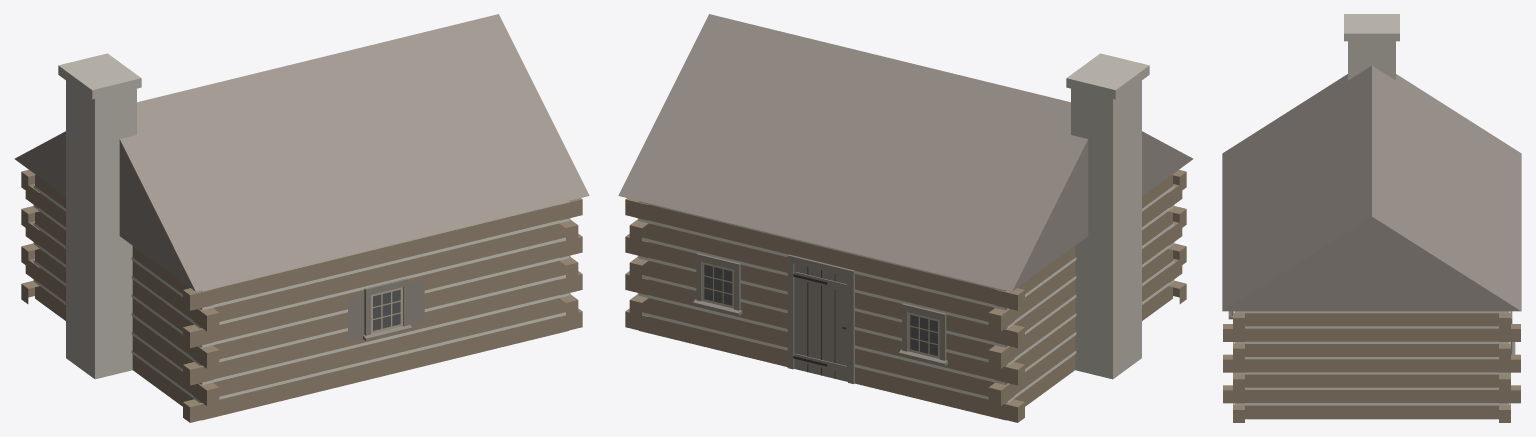
Rendered from miller_tannery__log_1831.glb.
3 views of the same model, side by side, from view 1: azimuth 30°, elevation 25°; view 2: azimuth 150°, elevation 25°; view 3: azimuth 270°, elevation 25° (orthographic). The views are drawn at different scales.
Visible parts, largest first — view 1: miller_tannery__log_1831; view 2: miller_tannery__log_1831; view 3: miller_tannery__log_1831.
Part boxes in pixels (x1,y1,x2,y2): miller_tannery__log_1831: (14,14,589,422); miller_tannery__log_1831: (618,14,1193,422); miller_tannery__log_1831: (1222,14,1521,422).
Bounding box in the file's own units: 8.07 × 5.32 × 6.
